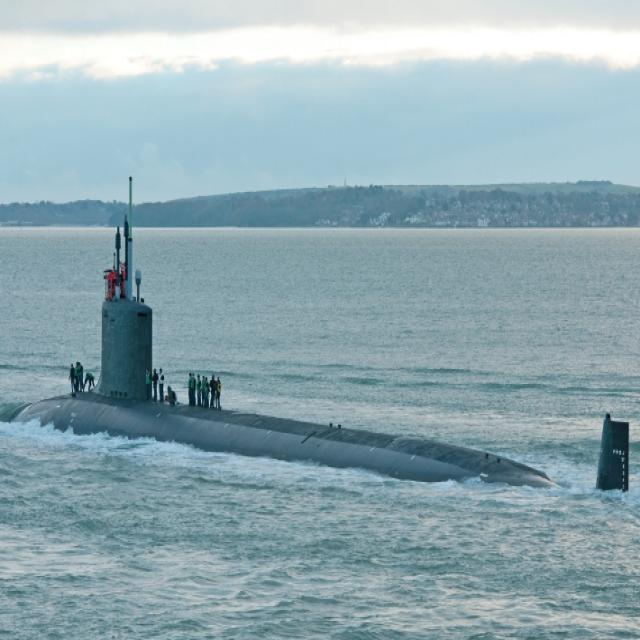submarine: (10, 177, 629, 491)
